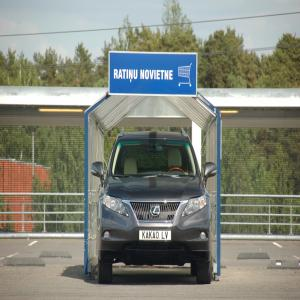Vehicle-registration-plate: (140, 229, 174, 242)
